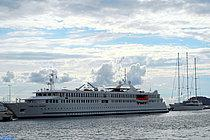Ship: (6, 79, 173, 121)
